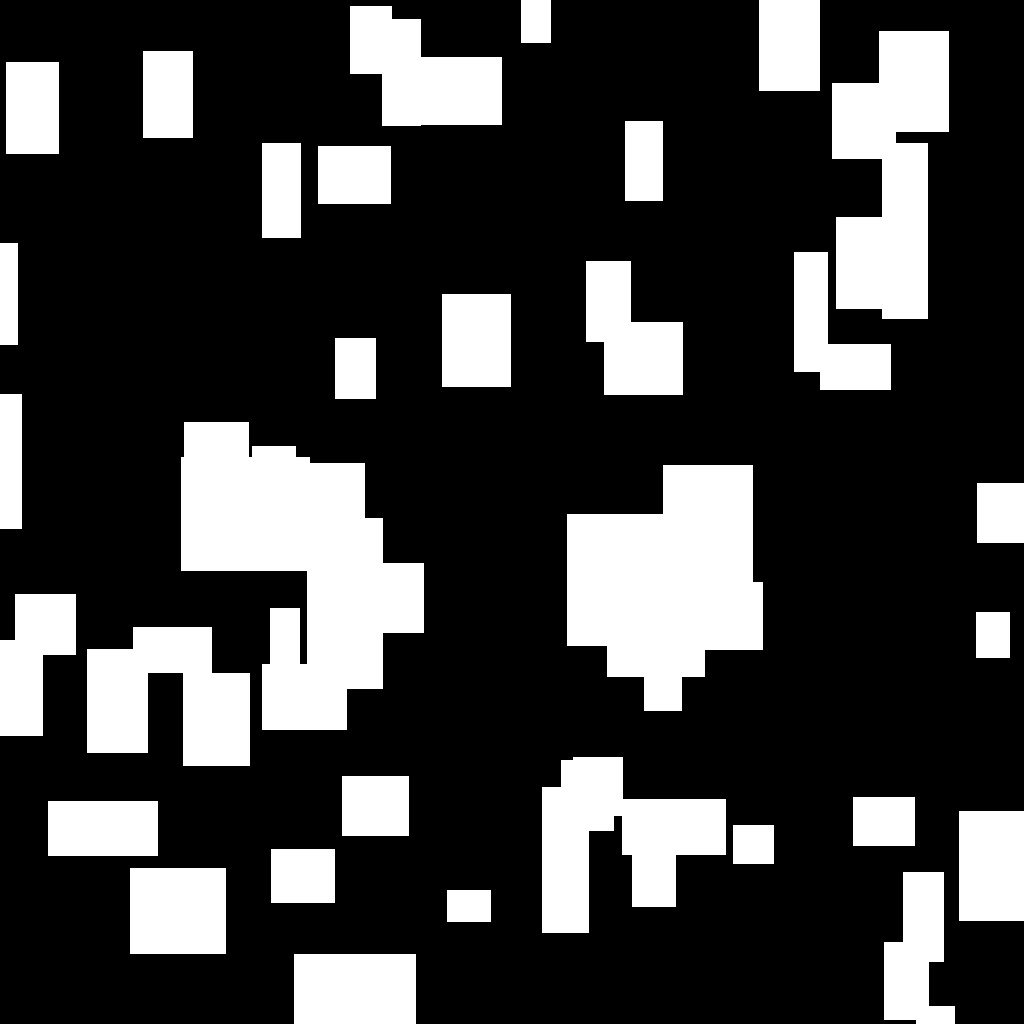wheat_head: (607, 519, 704, 676), (181, 457, 309, 570), (567, 514, 666, 645), (307, 518, 382, 688), (663, 465, 752, 585), (294, 954, 415, 1024), (130, 868, 225, 953), (882, 143, 927, 318), (959, 811, 1024, 920), (879, 31, 948, 131), (542, 787, 588, 932), (442, 294, 510, 386), (87, 649, 147, 752), (183, 673, 249, 765), (292, 463, 364, 547), (48, 801, 157, 855), (415, 57, 501, 124), (622, 799, 725, 854), (604, 322, 682, 394), (262, 664, 346, 729), (759, 0, 819, 90), (6, 62, 58, 153), (832, 83, 895, 158), (694, 582, 762, 649), (836, 217, 886, 308), (143, 51, 192, 137), (318, 146, 390, 203), (382, 19, 420, 125), (0, 640, 42, 735), (794, 252, 827, 371), (342, 776, 408, 835), (561, 760, 613, 830), (15, 594, 75, 654), (262, 143, 300, 237), (903, 872, 943, 961), (586, 261, 630, 341), (133, 627, 211, 672), (884, 942, 928, 1019), (271, 849, 334, 902), (820, 344, 890, 389), (853, 797, 914, 845), (625, 121, 662, 200), (573, 757, 622, 815), (0, 394, 21, 528), (977, 483, 1024, 542), (383, 563, 423, 632), (632, 842, 675, 906), (350, 6, 391, 73), (184, 422, 248, 460), (335, 338, 375, 398), (644, 652, 681, 710), (270, 608, 299, 674), (0, 243, 17, 344), (733, 825, 773, 863), (976, 612, 1009, 657), (447, 890, 490, 921), (252, 446, 295, 477), (521, 0, 550, 42), (916, 1006, 954, 1024)
